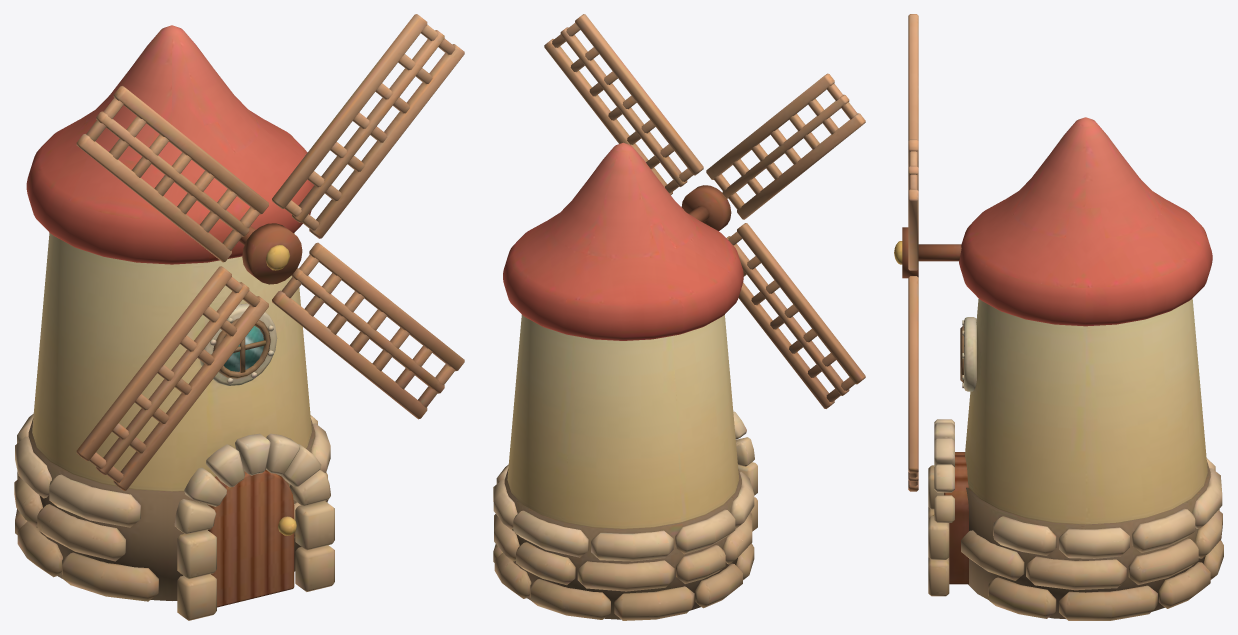
The model's file is mill_3_high.glb.
3 views of the same model, side by side, from view 1: azimuth 30°, elevation 25°; view 2: azimuth 150°, elevation 25°; view 3: azimuth 270°, elevation 25° (orthographic). The views are drawn at different scales.
Visible parts, largest first — view 1: mill_3, sails; view 2: mill_3, sails; view 3: mill_3, sails.
Boxes of the visible parts, box(x1,y1,x2,y2) form: mill_3: box(14, 25, 334, 620); sails: box(76, 14, 464, 490); mill_3: box(493, 142, 757, 620); sails: box(544, 14, 865, 408); mill_3: box(918, 117, 1223, 620); sails: box(894, 14, 918, 491).
Size of the model in its own units: 1.5 by 2.09 by 1.27.
1 material, 1 textured.
